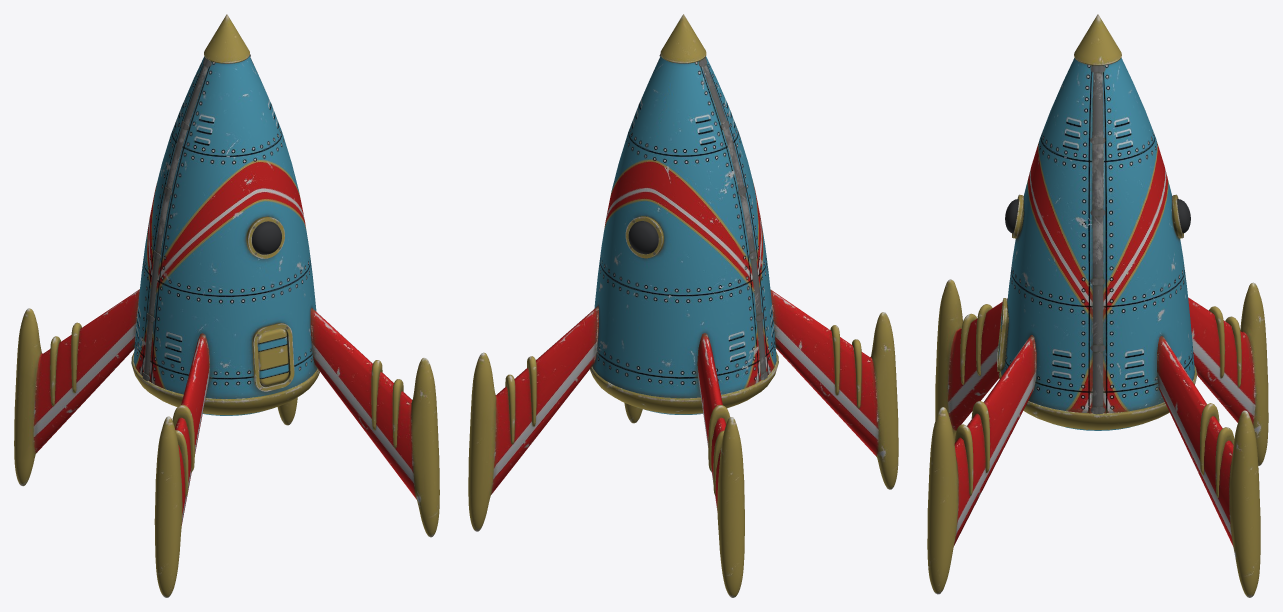
File: arunangshubanerjee-rocket-ship-2090.glb
3 renders of one model, left to right at view 1: azimuth 30°, elevation 25°; view 2: azimuth 150°, elevation 25°; view 3: azimuth 270°, elevation 25°, orthographic. The views are drawn at different scales.
Parts seen in each view (by area): view 1: toy_rocket_realistic_lod0; view 2: toy_rocket_realistic_lod0; view 3: toy_rocket_realistic_lod0.
Part boxes in pixels (x1=…): toy_rocket_realistic_lod0: x1=14, y1=14, x2=439, y2=597; toy_rocket_realistic_lod0: x1=468, y1=14, x2=898, y2=597; toy_rocket_realistic_lod0: x1=927, y1=14, x2=1268, y2=597.
Size of the model in its own units: 0.1564 by 0.2609 by 0.1564.
Materials: 1 (1 with a texture image).
